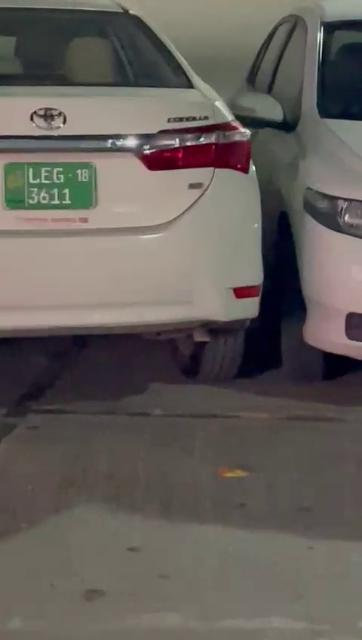plate: (4, 162, 94, 209)
